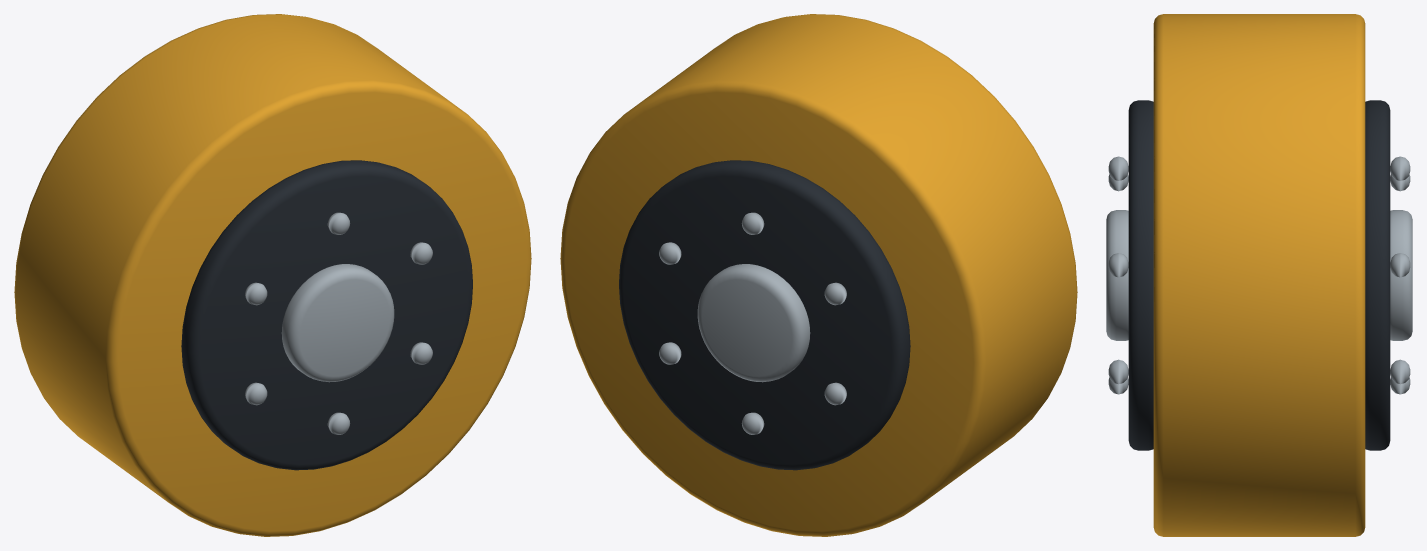
Rendered from SM_AGV_Wheel_Support_L.fbx.
The picture shows the model from 3 angles, left to right: view 1: azimuth 30°, elevation 25°; view 2: azimuth 150°, elevation 25°; view 3: azimuth 270°, elevation 25°; orthographic projection. The views are drawn at different scales.
Visible parts, largest first — view 1: SM_AGV_Wheel_Support_L.001; view 2: SM_AGV_Wheel_Support_L.001; view 3: SM_AGV_Wheel_Support_L.001.
Part boxes in pixels (box(x1,y1,x2,y2)): SM_AGV_Wheel_Support_L.001: box(14, 14, 531, 536); SM_AGV_Wheel_Support_L.001: box(560, 14, 1077, 536); SM_AGV_Wheel_Support_L.001: box(1106, 14, 1412, 536).
Bounding box in the file's own units: 0.21 × 0.123 × 0.21.
